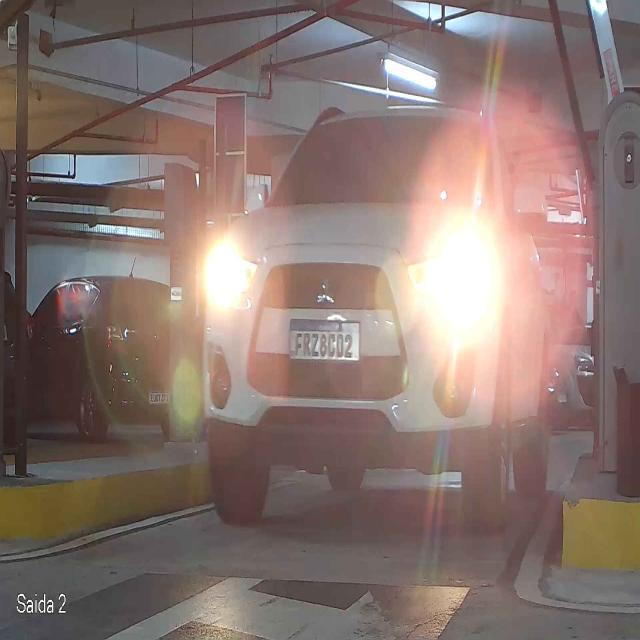mercosul_plate: (286, 317, 362, 364)
